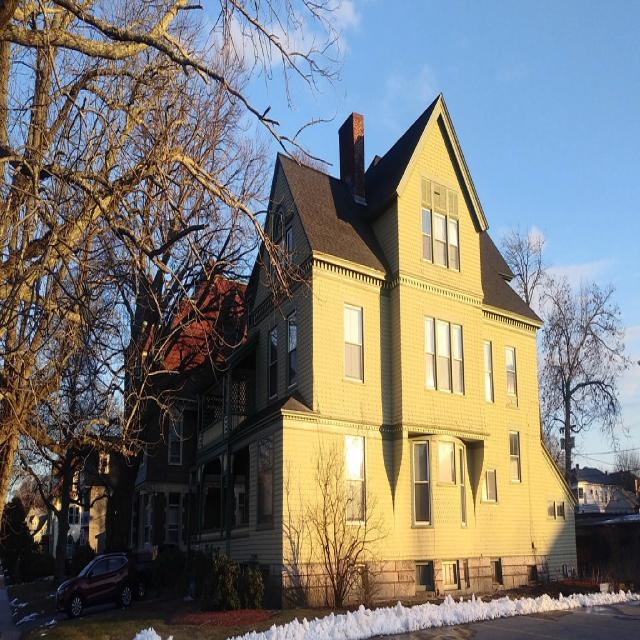Normal_building: (123, 89, 586, 602)
